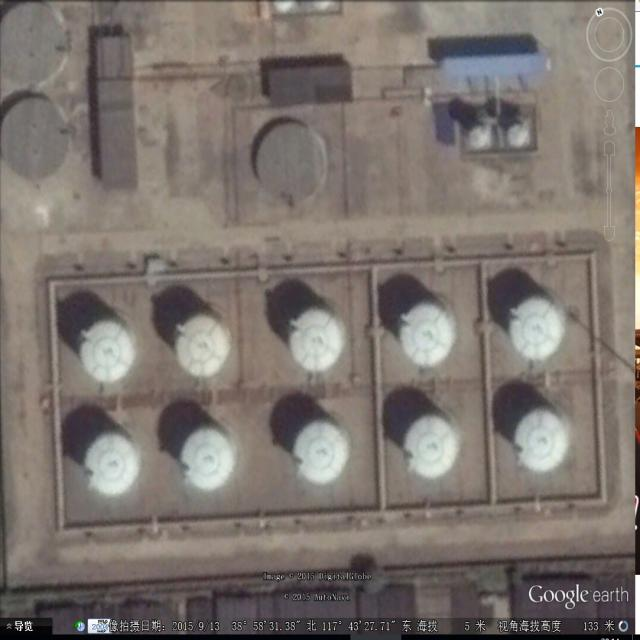oiltank: (506, 286, 572, 371), (284, 301, 355, 376), (398, 407, 465, 486), (73, 312, 142, 388), (395, 295, 460, 374), (510, 401, 575, 480), (289, 412, 355, 489), (167, 308, 236, 381), (176, 422, 244, 496), (82, 428, 146, 505)
